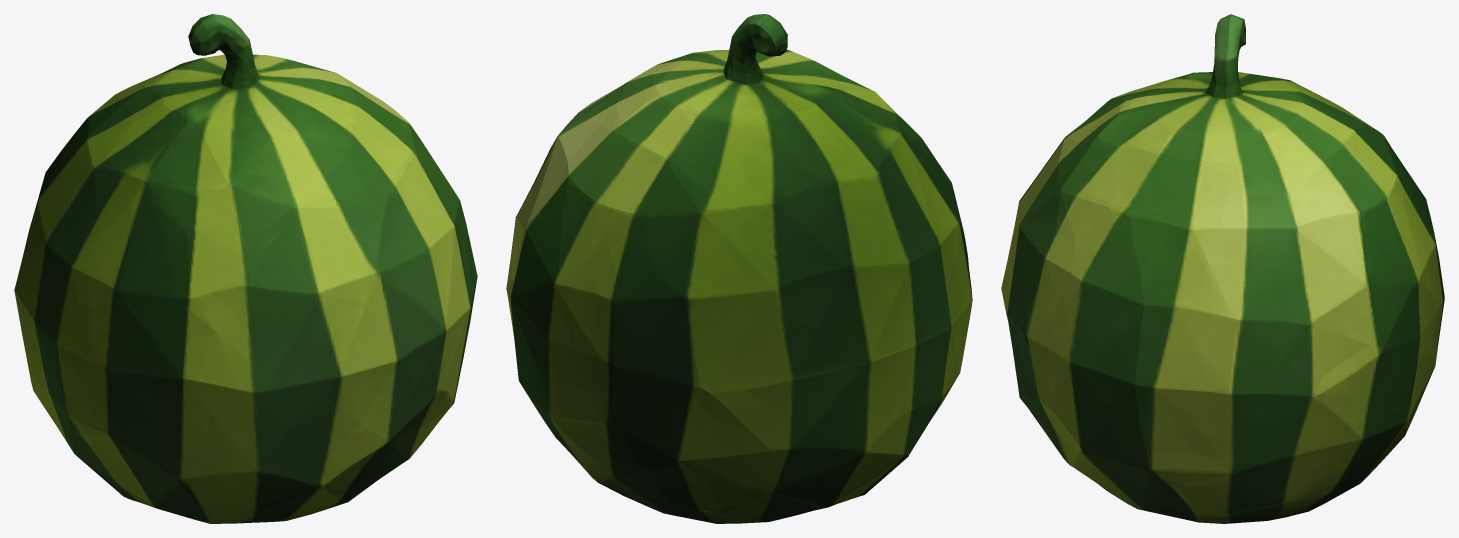
Rendered from whole-watermelon.glb.
3 views of the same model, side by side, from view 1: azimuth 30°, elevation 25°; view 2: azimuth 150°, elevation 25°; view 3: azimuth 270°, elevation 25° (orthographic). The views are drawn at different scales.
Visible parts, largest first — view 1: world; view 2: world; view 3: world.
Part boxes in pixels (x1,y1,x2,y2): world: [14, 14, 477, 523]; world: [506, 14, 972, 523]; world: [1001, 14, 1444, 523].
Size of the model in its own units: 0.421 by 0.4931 by 0.4192.
1 material, 1 textured.
